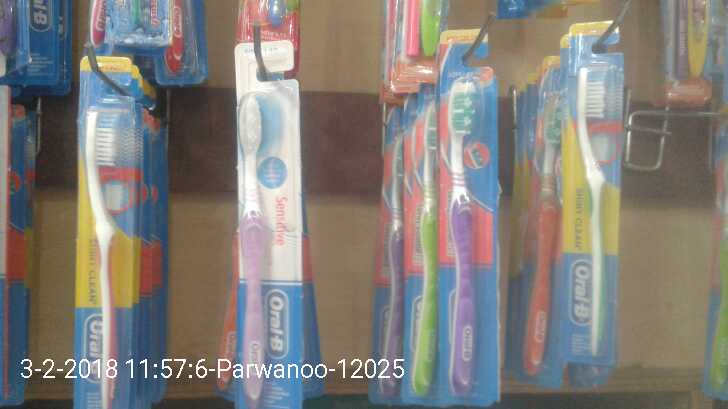oralb: (75, 63, 136, 355), (443, 72, 492, 405), (235, 68, 286, 360), (573, 55, 614, 371)
